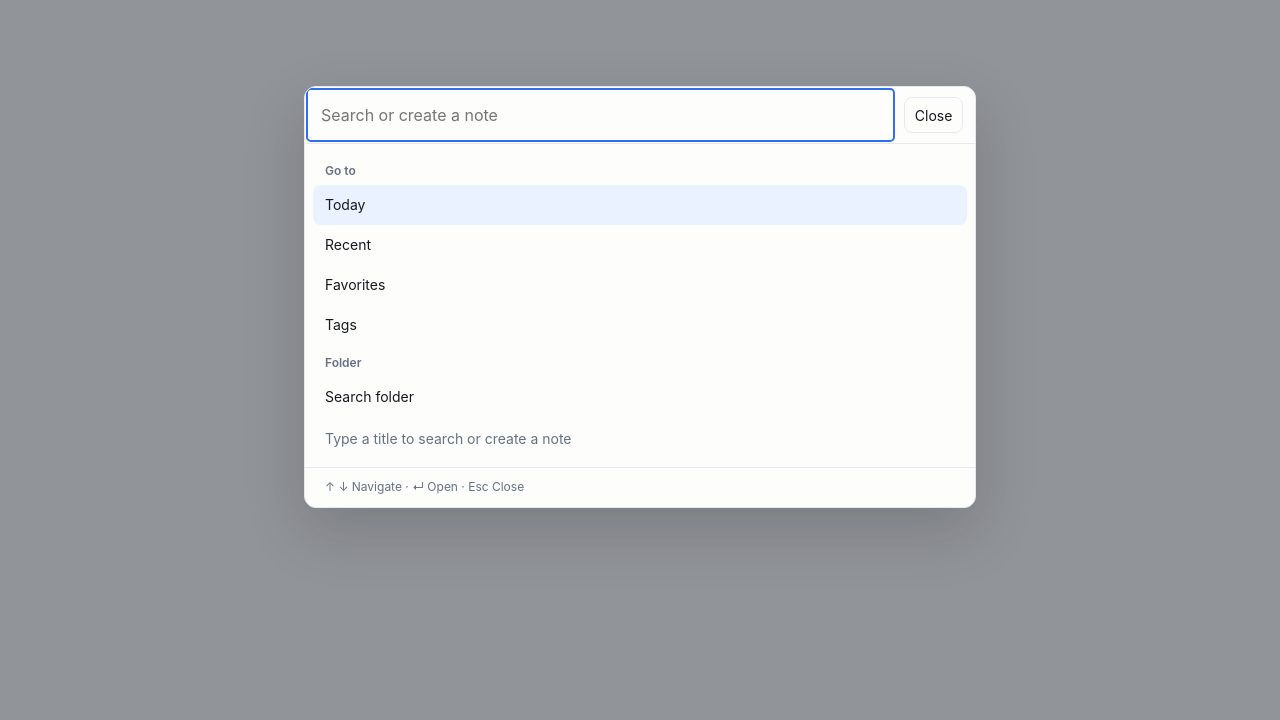
Test: NotePicker › treats a trailing slash as folder browse
Type "ideas/" into the search field with placeholder "Search or create a note" at (601, 115), box [305,87,896,143]
Wait 120 ms
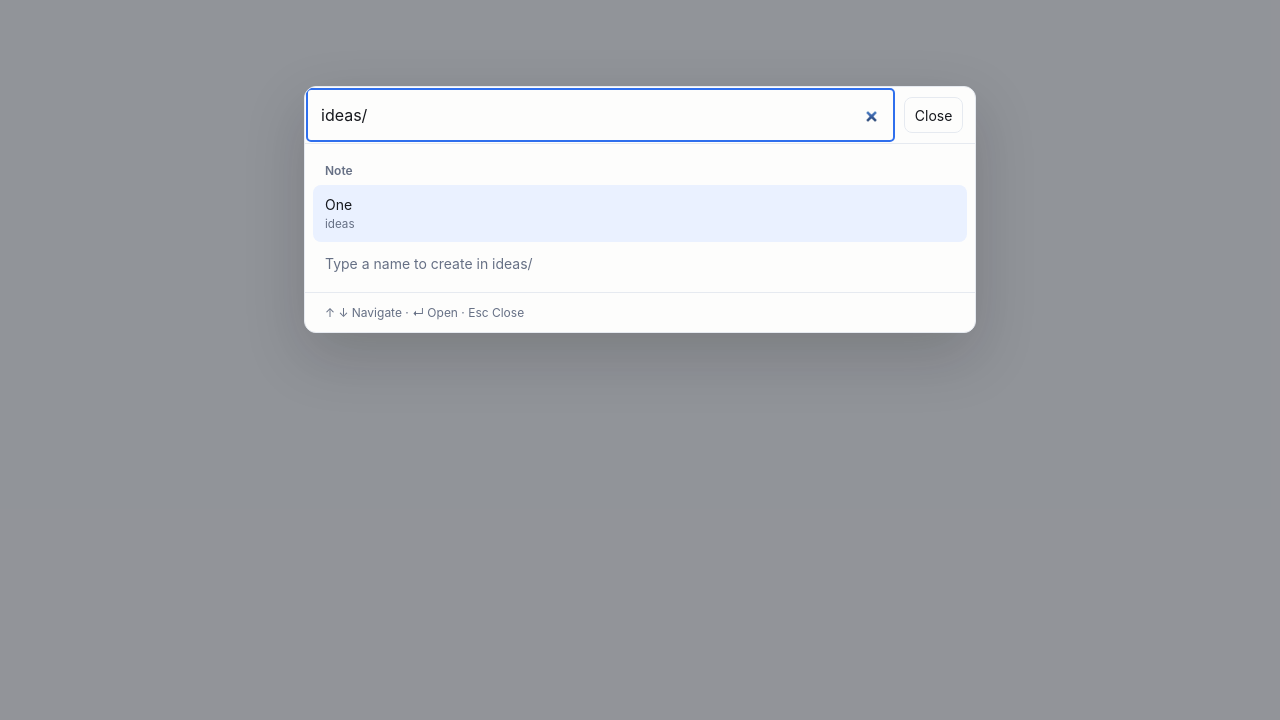
Expected: the text "One" is shown, [325,194,352,215]
Expected: the text "Type a name to create in ideas/" is shown, [325,255,533,272]
